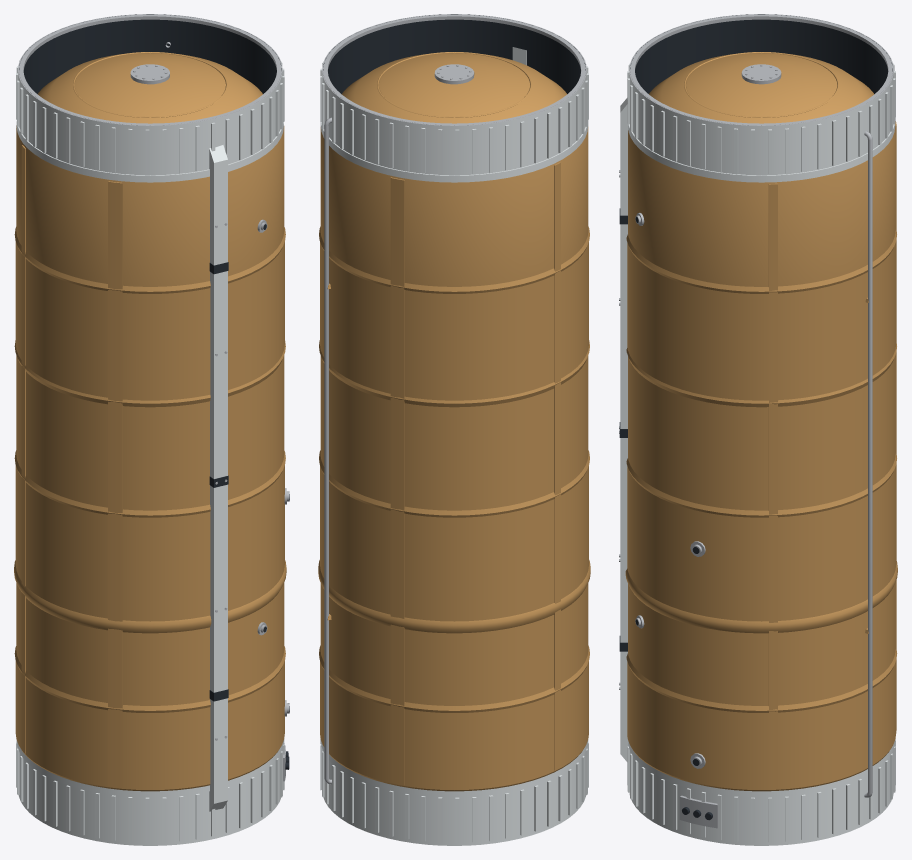
File: tank_s2_l_hydrolox.fbx
The picture shows the model from 3 angles, left to right: view 1: azimuth 30°, elevation 25°; view 2: azimuth 150°, elevation 25°; view 3: azimuth 270°, elevation 25°; orthographic projection.
Parts seen in each view (by area): view 1: tank_s2_l_hydrolox_LOD0; view 2: tank_s2_l_hydrolox_LOD0; view 3: tank_s2_l_hydrolox_LOD0.
Part boxes in pixels (x1,y1,x2,y2): tank_s2_l_hydrolox_LOD0: (14,14,289,845); tank_s2_l_hydrolox_LOD0: (318,14,590,845); tank_s2_l_hydrolox_LOD0: (619,14,897,845).
Size of what is drawn, in the model's own units: 5.56 by 16.2 by 5.68.
